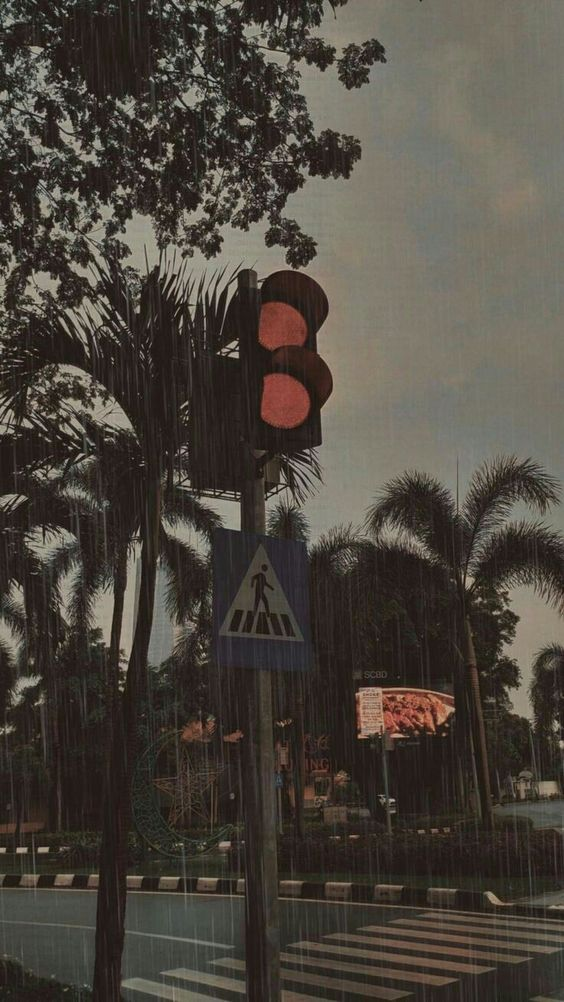sign: (209, 530, 321, 689)
traffic light: (197, 261, 341, 497)
